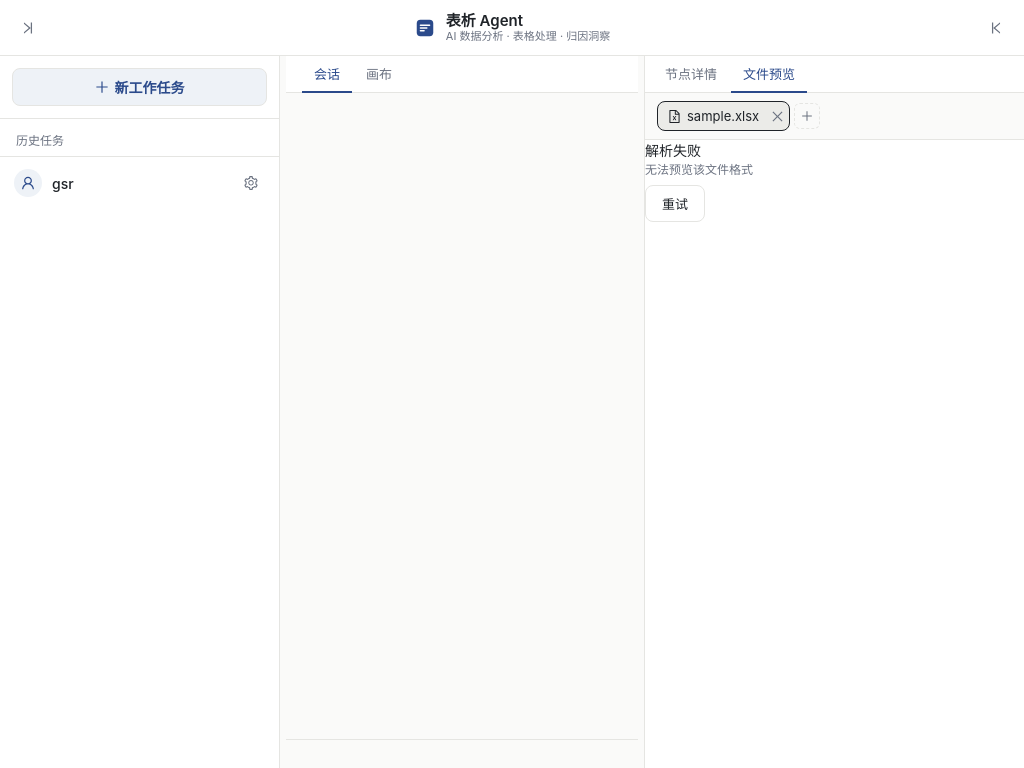
Test: U. Previewer parse failure surface › retry re-fetches the file and renders the preview once it parses
Expected: the element with test id "previewer-error" shows "无法预览该文件格式", [645,162,753,177]
Click the button with test id "previewer-error-retry" at (675, 204), box [645,185,705,222]
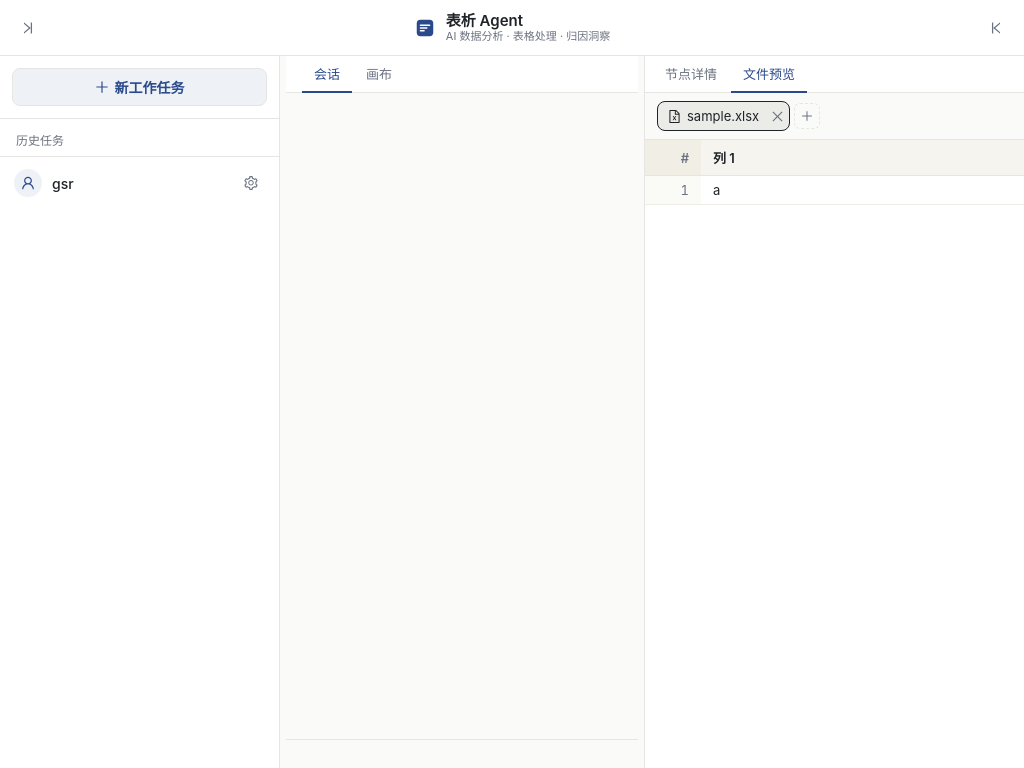
Result: the element with test id "previewer-error" is gone
Result: the element with test id "spreadsheet-preview" is shown at [645,140,1023,205]
